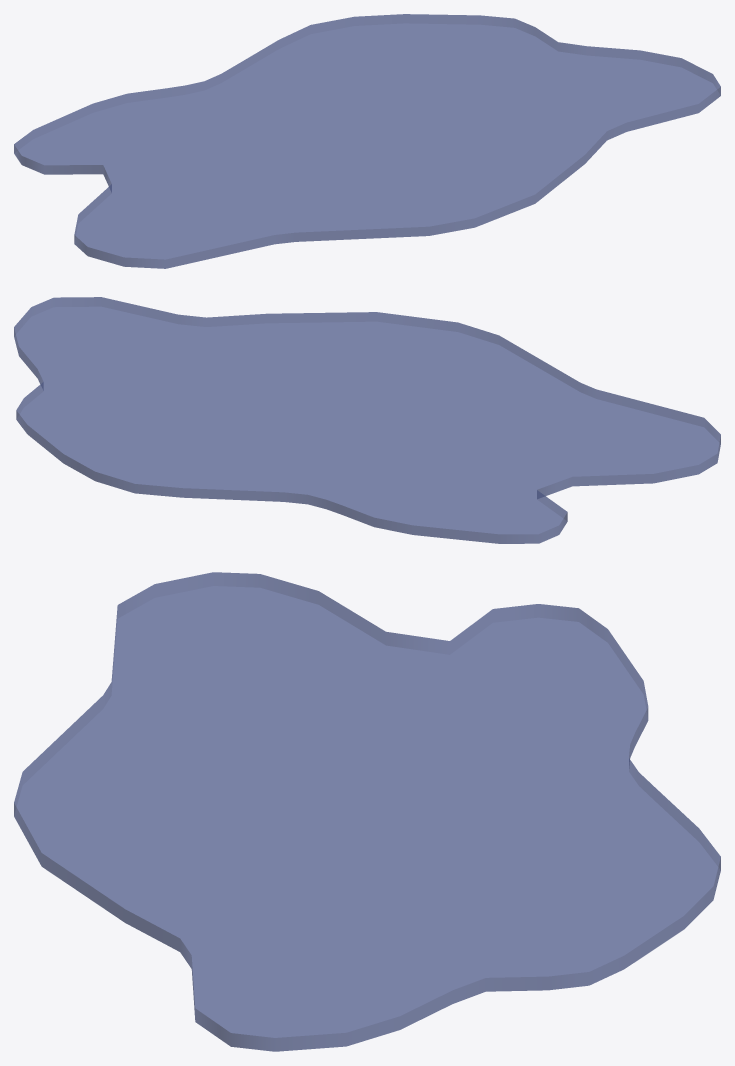
File: Puddle_01.fbx
3 views of the same model, one above another, from view 1: azimuth 30°, elevation 25°; view 2: azimuth 150°, elevation 25°; view 3: azimuth 270°, elevation 25° (orthographic). The views are drawn at different scales.
Parts seen in each view (by area): view 1: pCylinder1; view 2: pCylinder1; view 3: pCylinder1.
Part boxes in pixels (x1,y1,x2,y2): pCylinder1: (14, 14, 720, 268); pCylinder1: (14, 297, 720, 543); pCylinder1: (14, 572, 720, 1051).
Bounding box in the file's own units: 1.82 × 0.0252 × 1.17.
